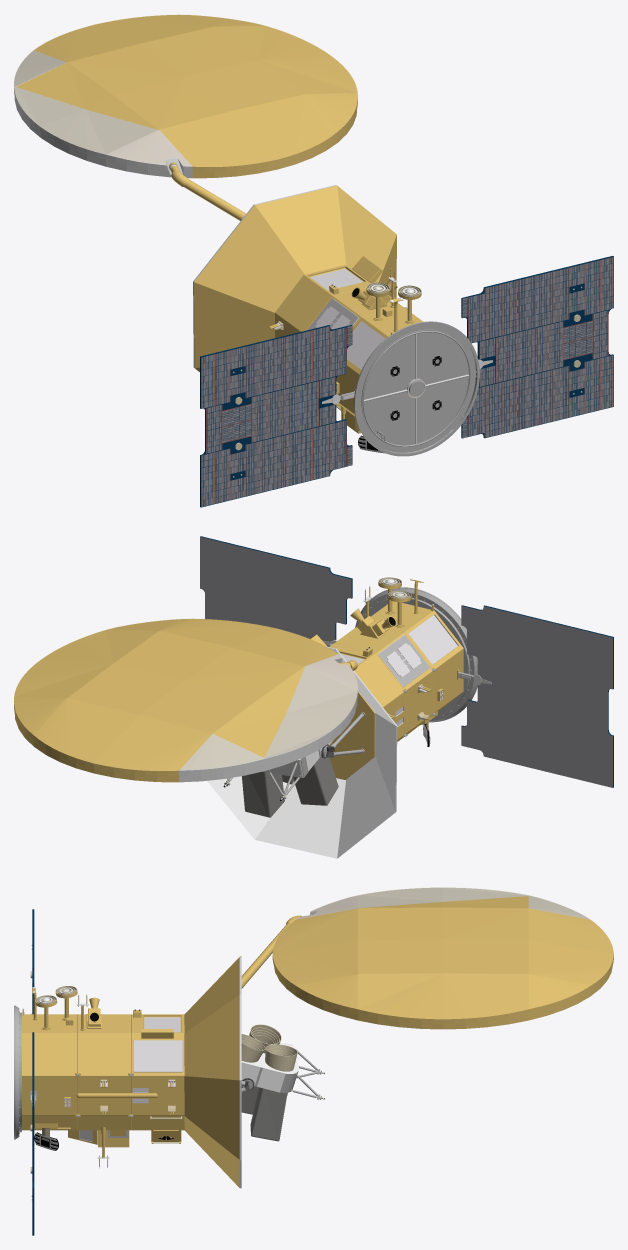
Rendered from Aquarius (A).glb.
3 views of the same model, one above another, from view 1: azimuth 30°, elevation 25°; view 2: azimuth 150°, elevation 25°; view 3: azimuth 270°, elevation 25° (orthographic). The views are drawn at different scales.
Parts seen in each view (by area): view 1: Layer_0; view 2: Layer_0; view 3: Layer_0.
Boxes of the visible parts, left/top/right/bottom form: Layer_0: left=14, top=14, right=613, bottom=507; Layer_0: left=14, top=536, right=613, bottom=858; Layer_0: left=14, top=887, right=613, bottom=1235.
Size of the model in its own units: 7.86 by 4.54 by 10.66.
